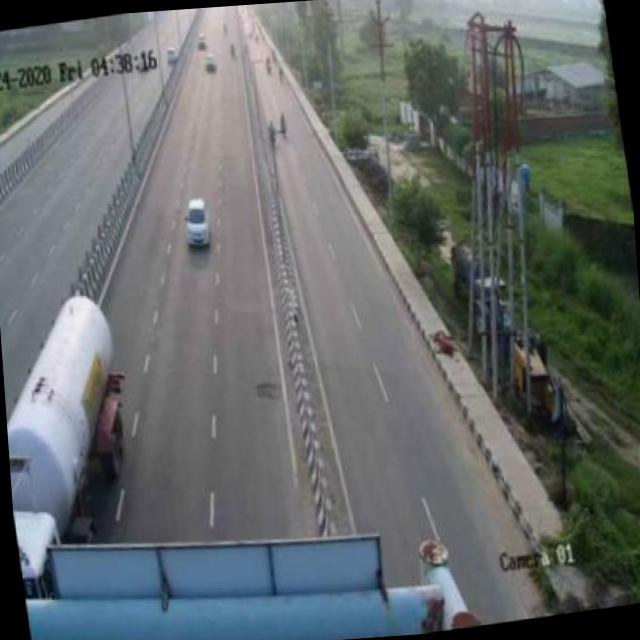car: (168, 192, 226, 262)
